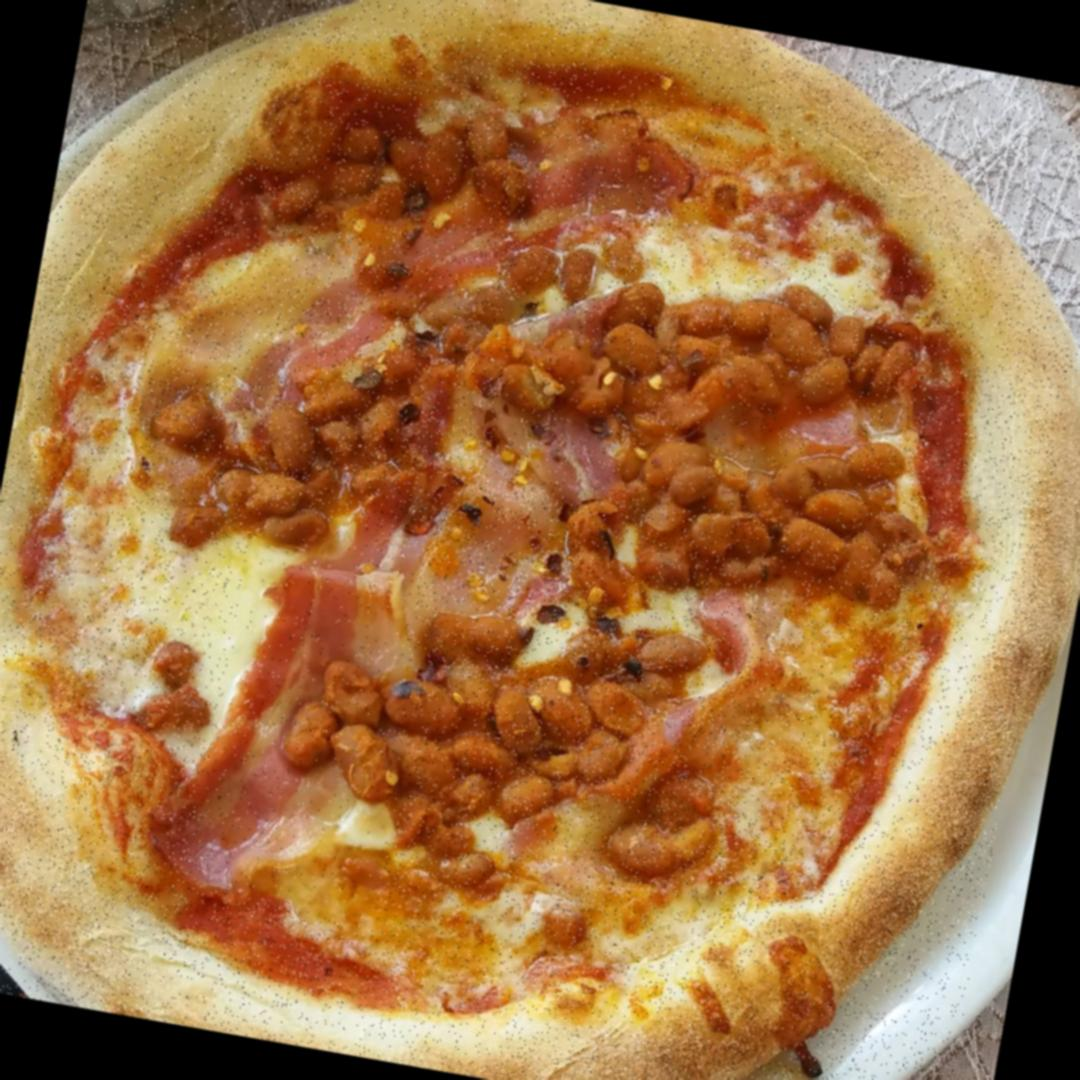Bacon: (302, 76, 694, 402), (189, 506, 442, 925), (405, 468, 769, 720), (487, 332, 871, 532)
Pizza: (0, 0, 1080, 1080)
